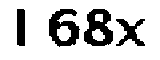6: (44, 6, 80, 50)
8: (83, 5, 113, 51)
l: (13, 5, 36, 50)
x: (112, 15, 145, 50)
